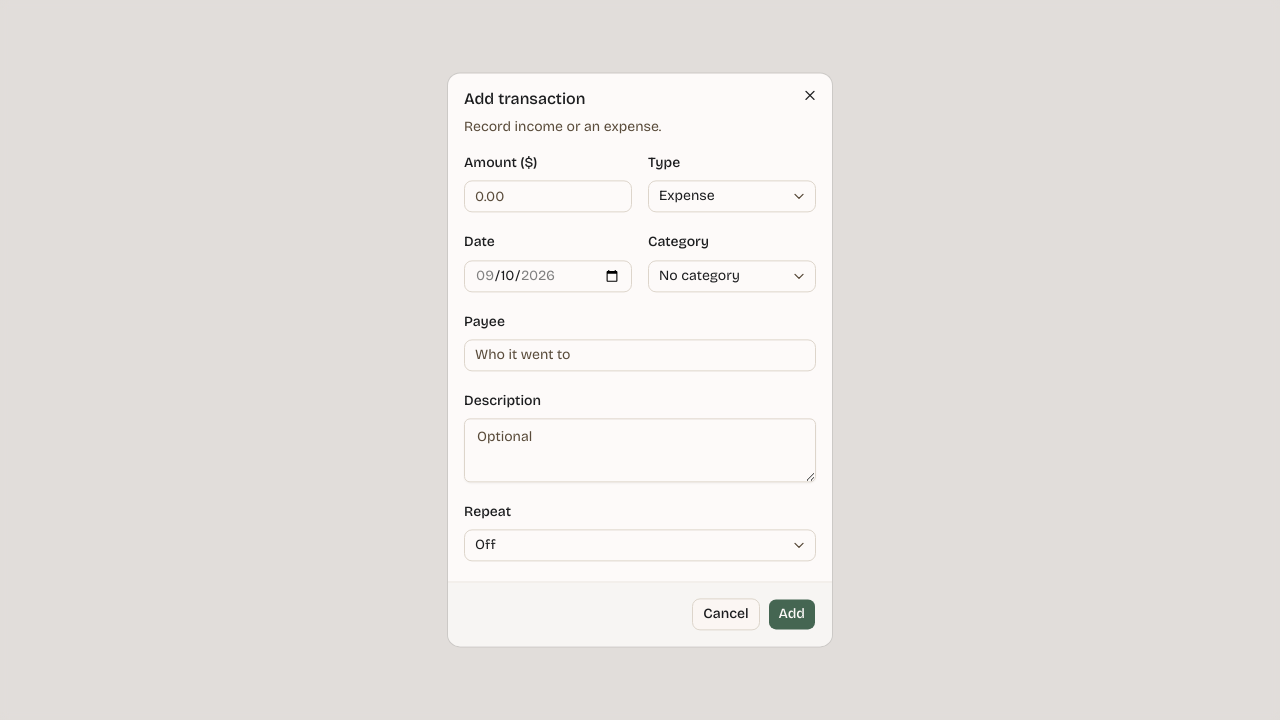
Test case: TransactionDialog › still files the category when the type they picked agrees
Click the dropdown named "Type".
click(732, 197)  # box left=648, top=181, right=816, bottom=213
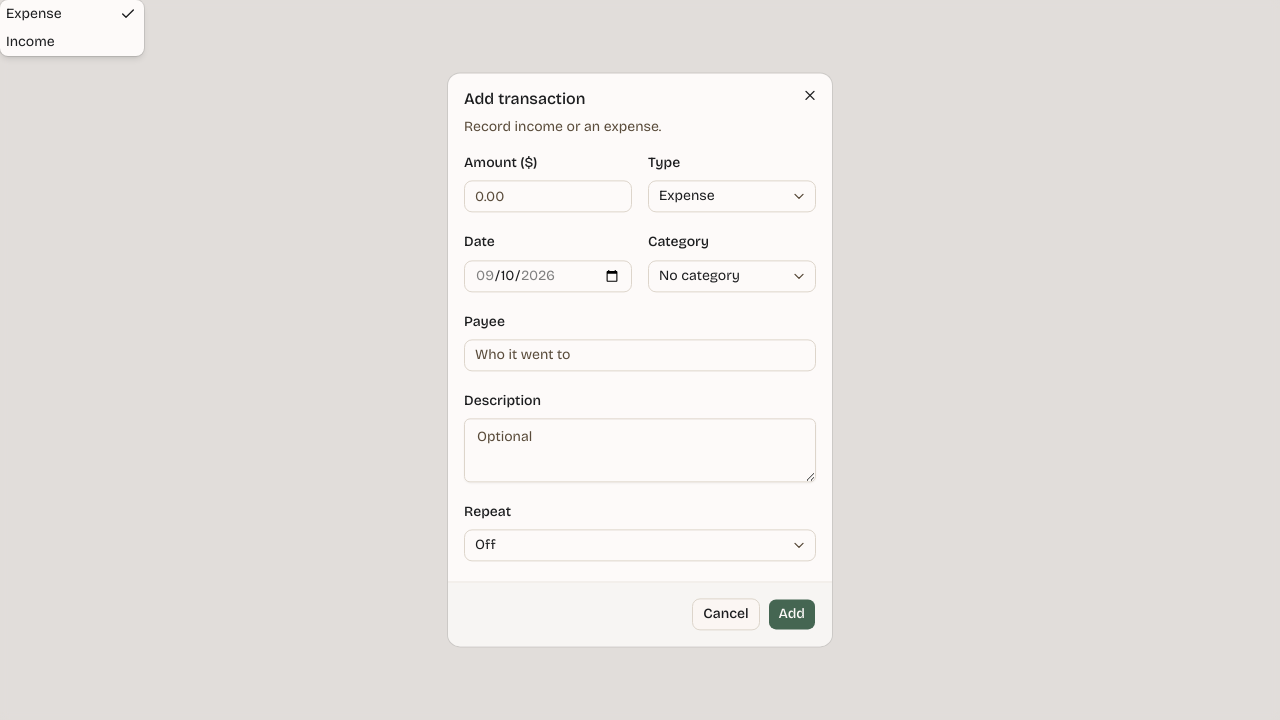
Press Enter in the option "Income", box left=6, top=33, right=55, bottom=50
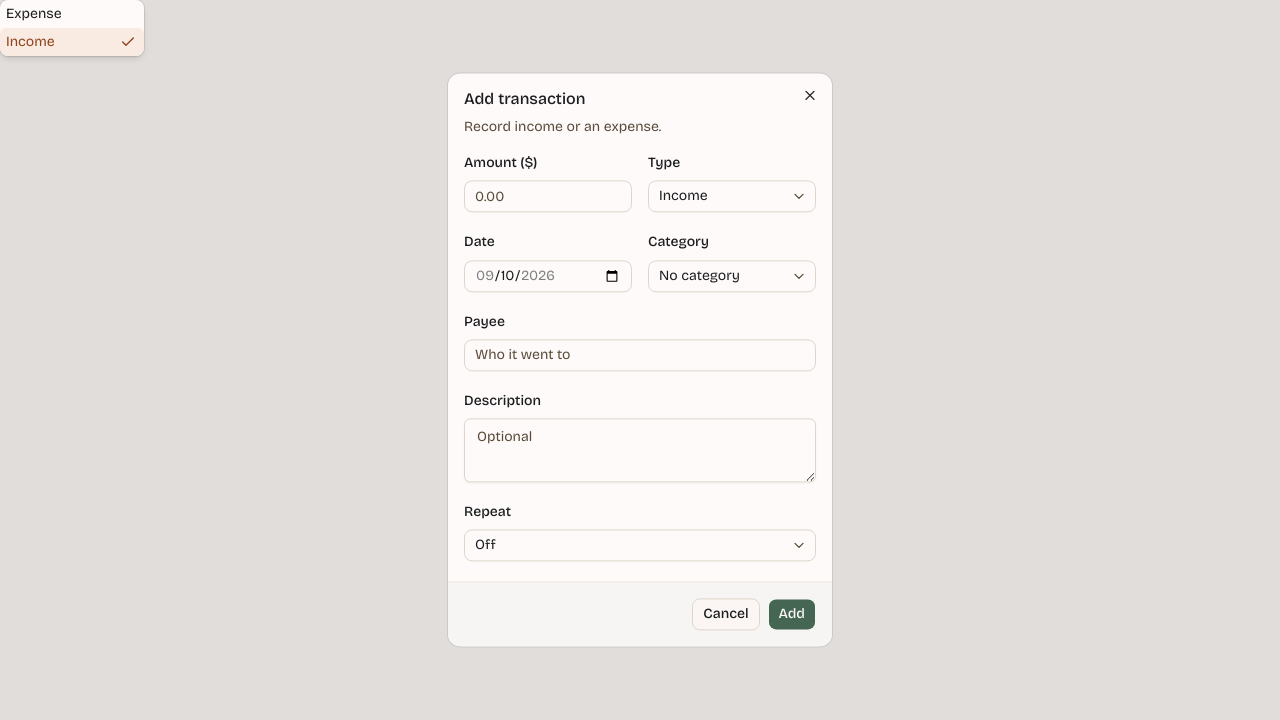
Type "Acme Ltd" into the field labelled "Payee".
click(640, 355); type("Acme Ltd")  # box left=464, top=339, right=816, bottom=371
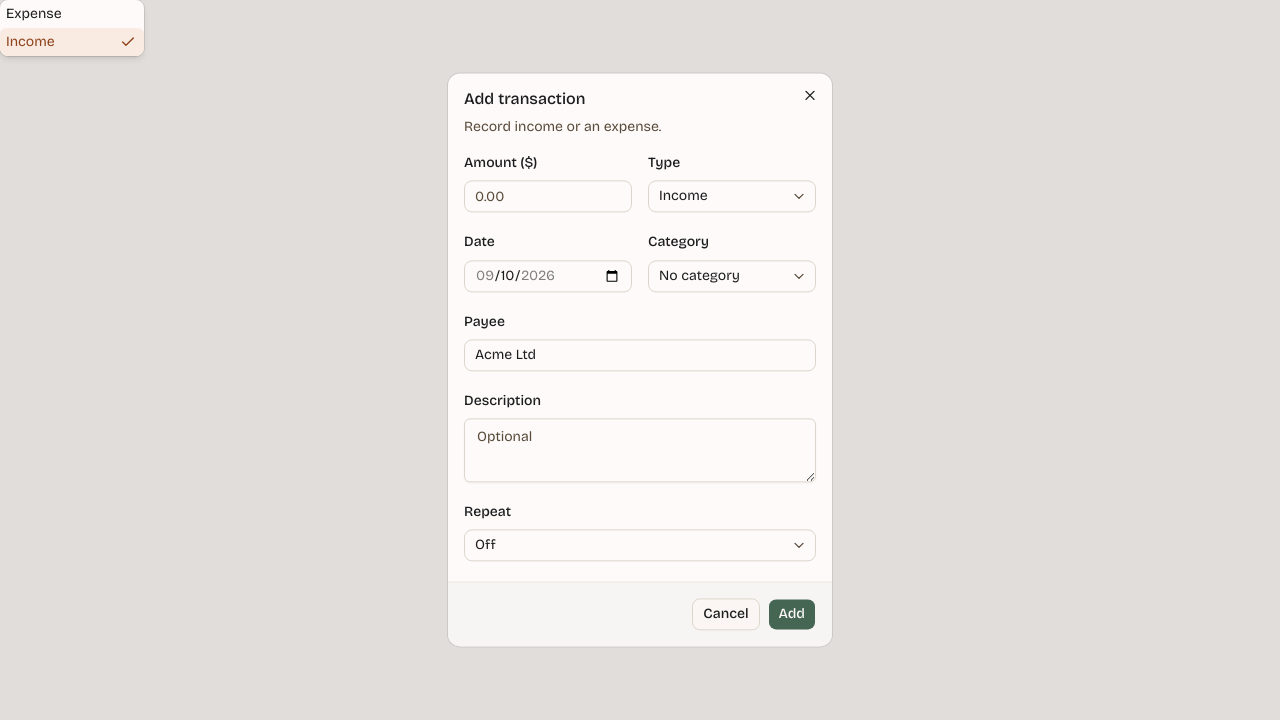
Leave the field labelled "Payee", box left=464, top=339, right=816, bottom=371
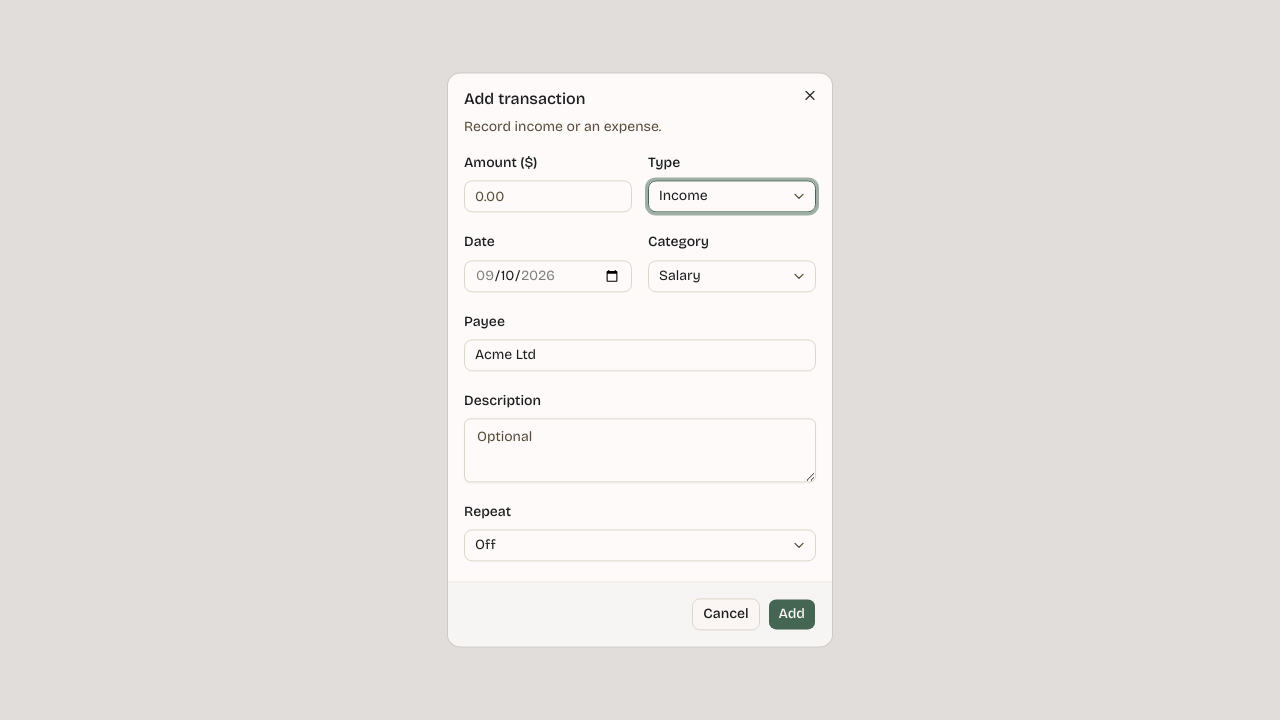
Expected: the dropdown named "Type" shows "Income", left=648, top=181, right=816, bottom=213
Expected: the dropdown named "Category" shows "Salary", left=648, top=260, right=816, bottom=292
